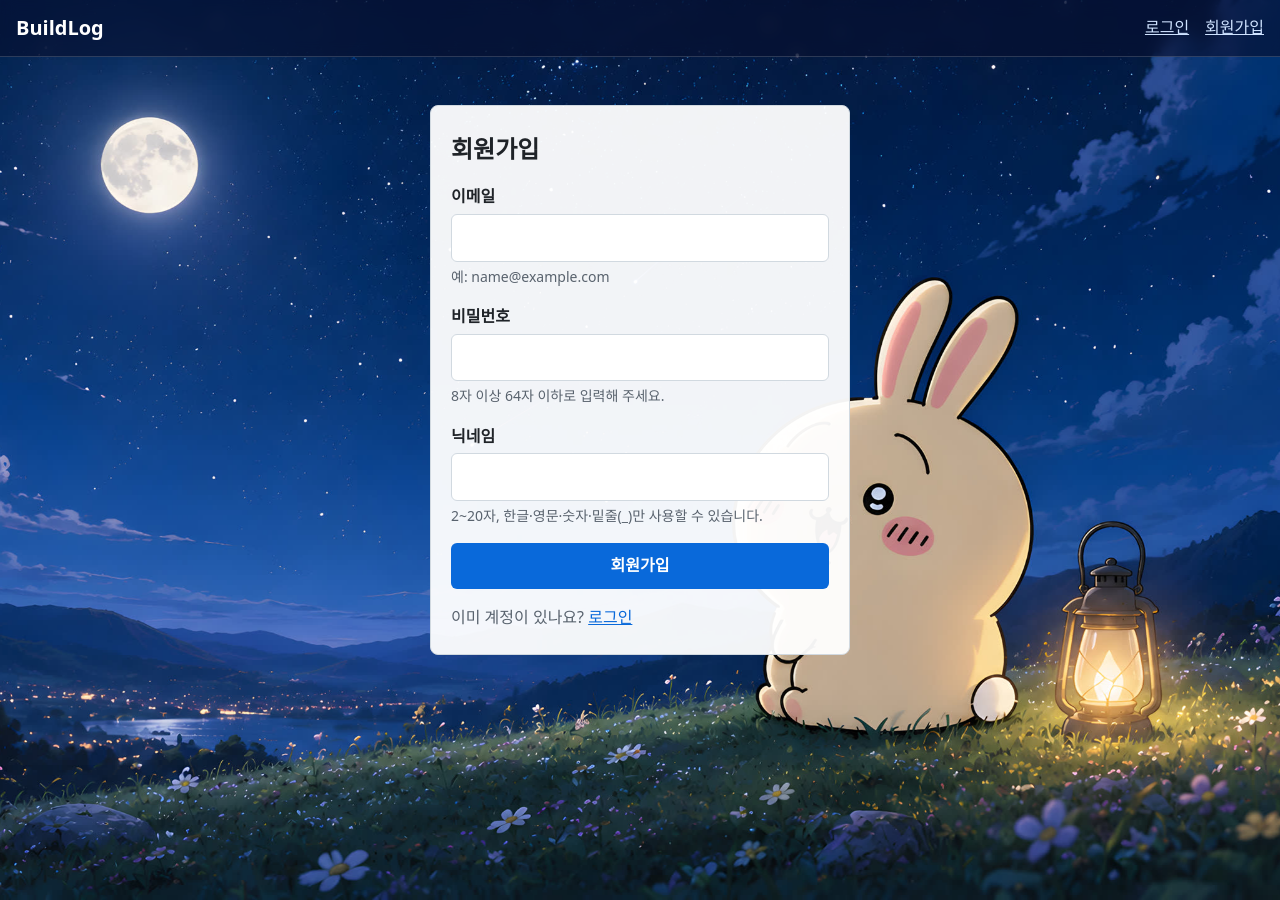
Test: 회원가입 › 성공하면 가입 안내와 함께 로그인 화면으로 이동한다
Type "user@example.com" into the field labelled "이메일" at [640, 238], box [451,214,829,262]
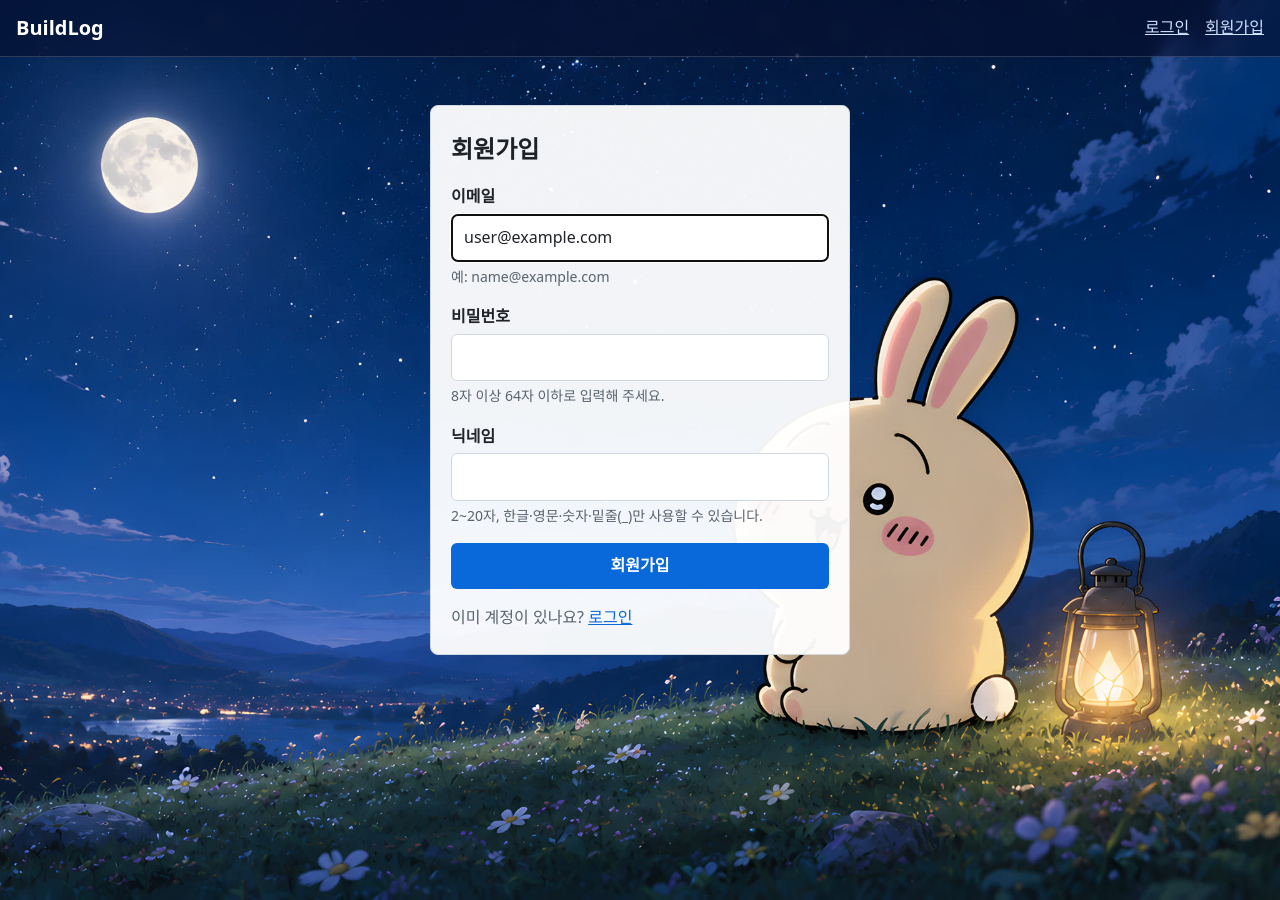
Type "password123" into the password field labelled "비밀번호" at [640, 357], box [451,334,829,381]
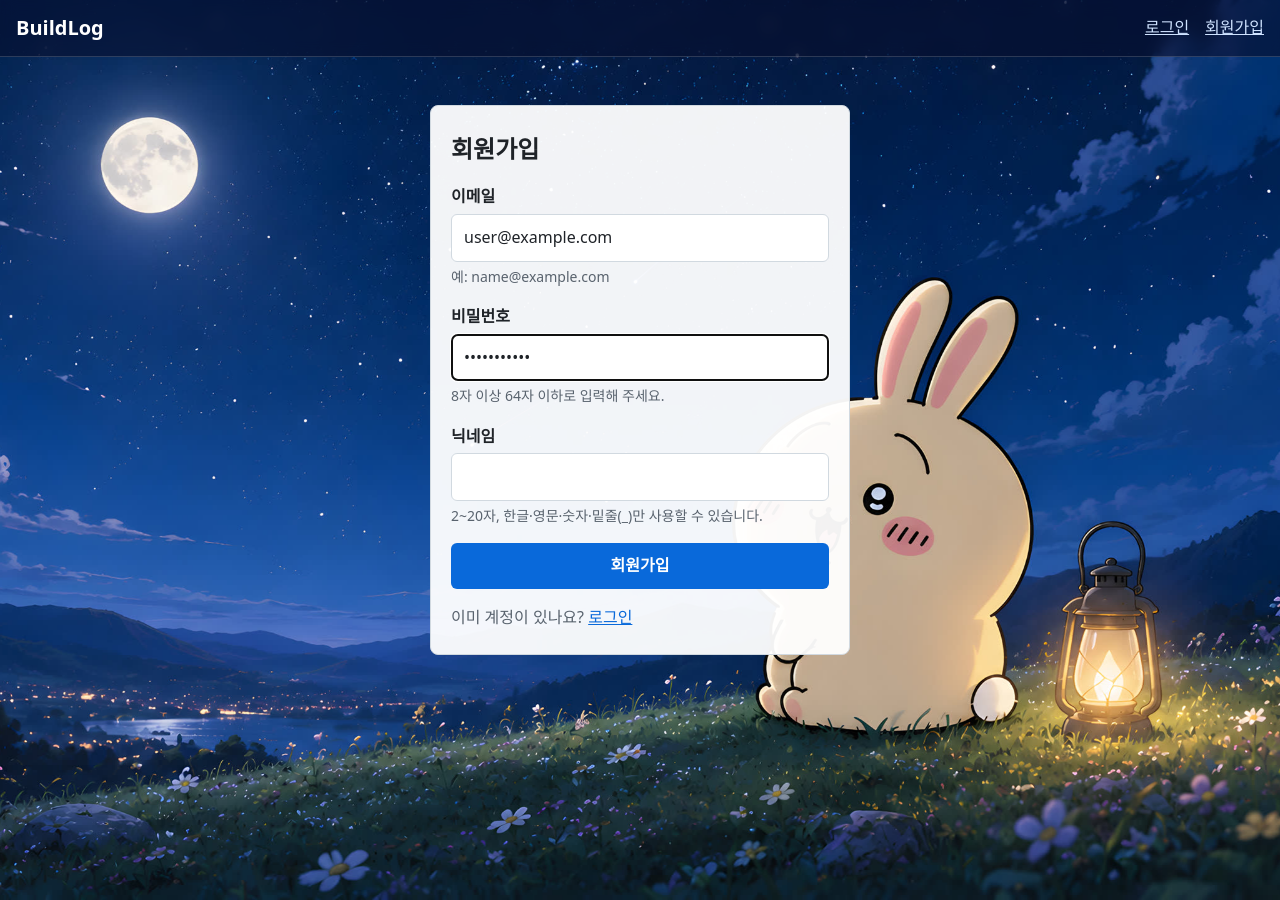
Type "빌드로그" into the field labelled "닉네임" at [640, 477], box [451,453,829,501]
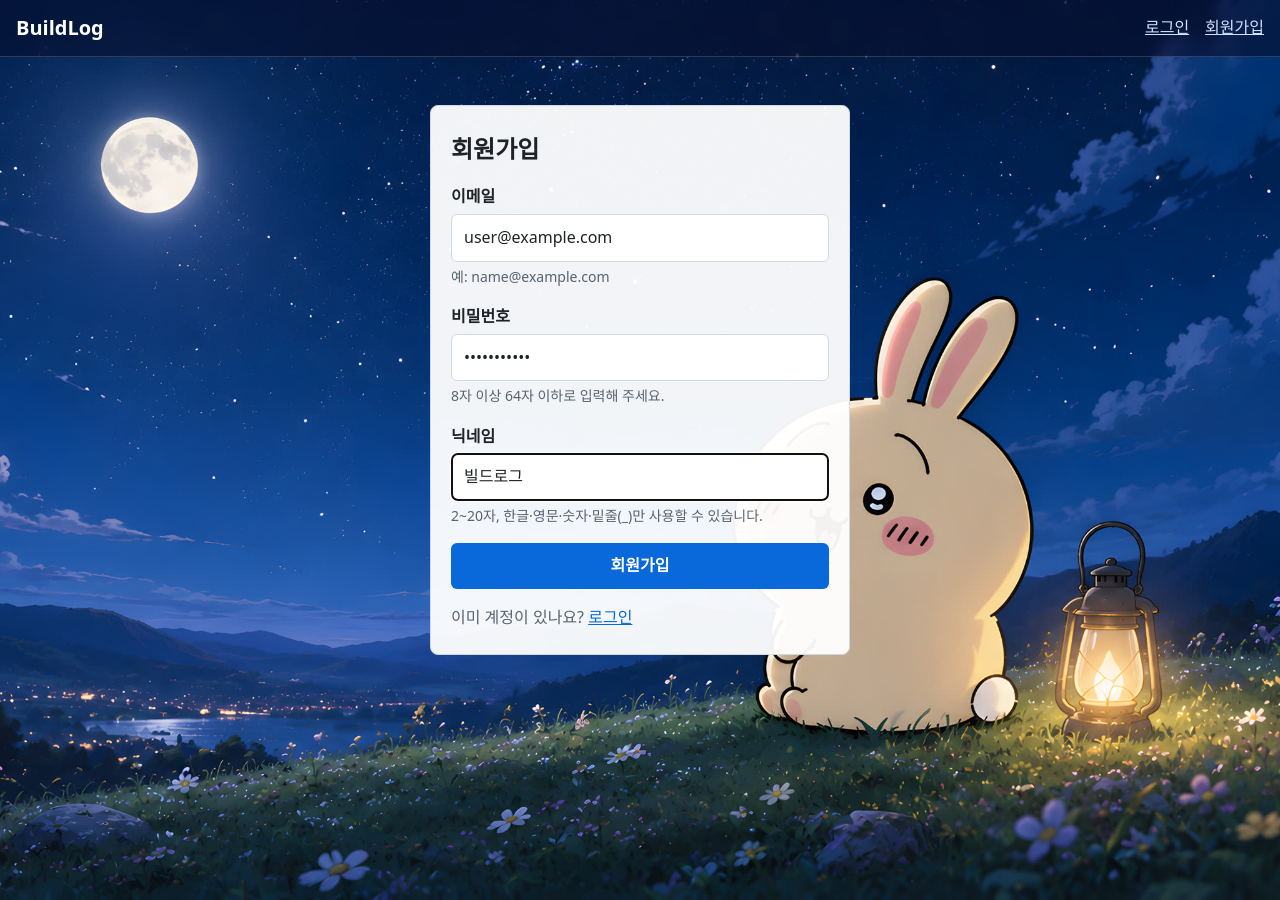
Click the button "회원가입" at [640, 566], box [451,543,829,589]
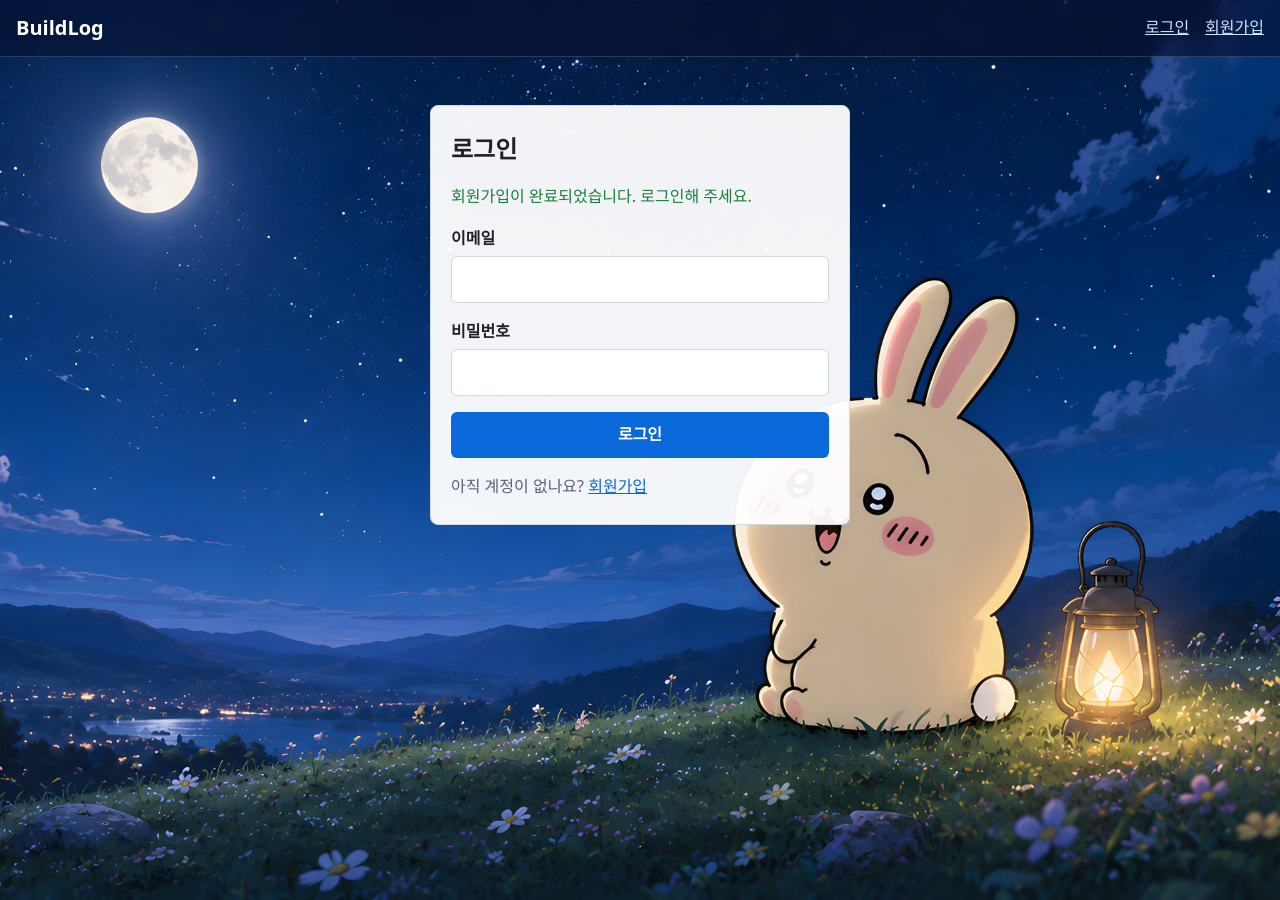
Expected: the heading "로그인" is shown, [451,132,517,165]
Expected: the text "회원가입이 완료되었습니다. 로그인해 주세요." is shown, [451,185,752,207]
